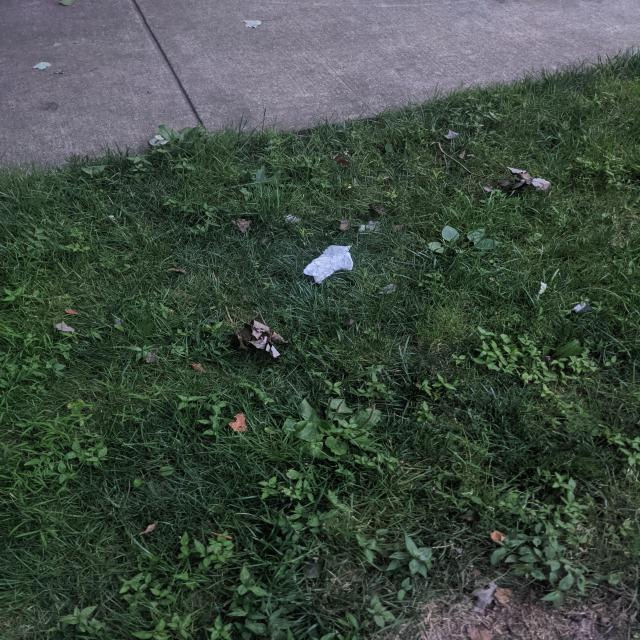litter: (302, 245, 354, 284)
